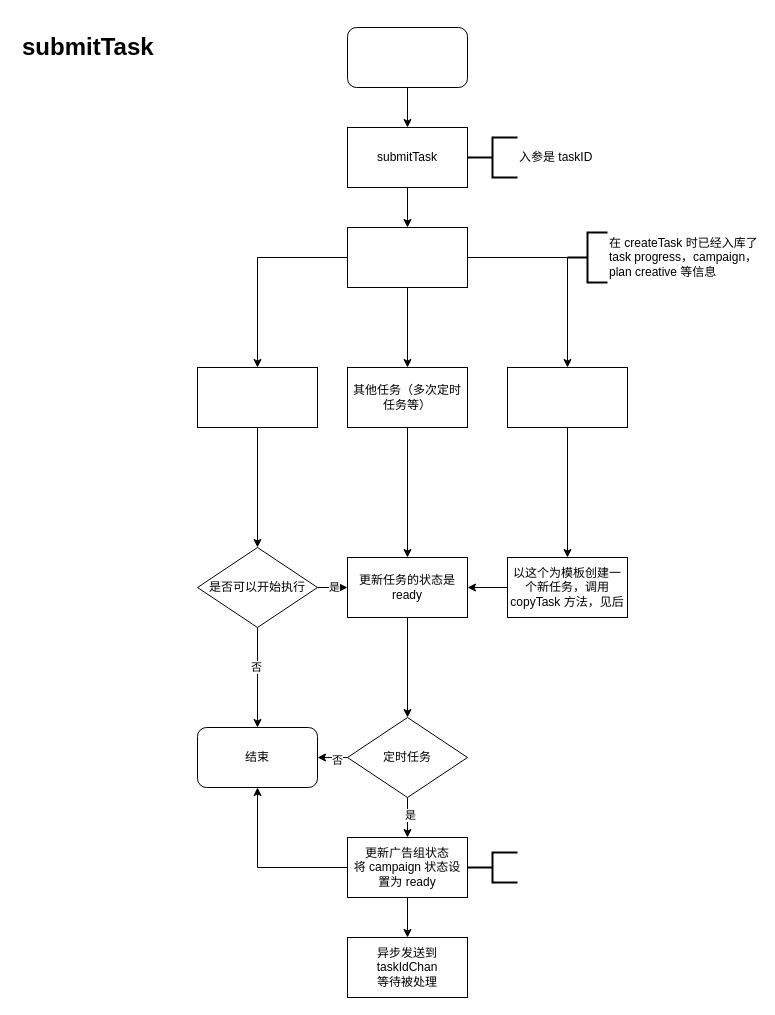
This 775x1015 diagram has some shape labels left out. The box of each missing label's shape, as (x1, y1, x2, y2) in pixels:
UpdateCampaignStatusByTaskId: (466, 851, 518, 883)
定时任务且是一次性执行任务: (196, 366, 318, 428)
开始: (346, 26, 468, 88)
根据 taskID 获得 task progress 信息: (346, 226, 468, 288)
非定时任务: (506, 366, 628, 428)
